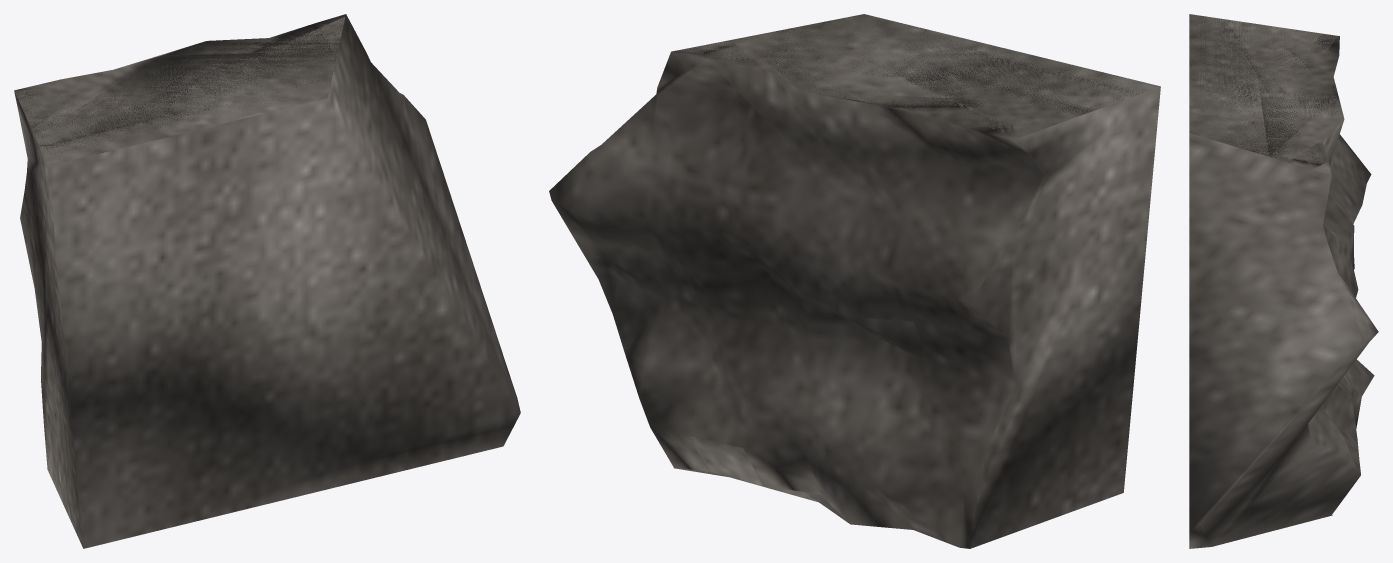
The model's file is cliff_face_3.glb.
3 renders of one model, left to right at view 1: azimuth 30°, elevation 25°; view 2: azimuth 150°, elevation 25°; view 3: azimuth 270°, elevation 25°, orthographic. The views are drawn at different scales.
Visible parts, largest first — view 1: cliff_face_3; view 2: cliff_face_3; view 3: cliff_face_3.
Part boxes in pixels (x1,y1,x2,y2): cliff_face_3: (14, 14, 520, 548); cliff_face_3: (549, 14, 1160, 548); cliff_face_3: (1189, 14, 1378, 548).
Bounding box in the file's own units: 9.18 × 7.2 × 3.63.
Materials: 1 (1 with a texture image).
